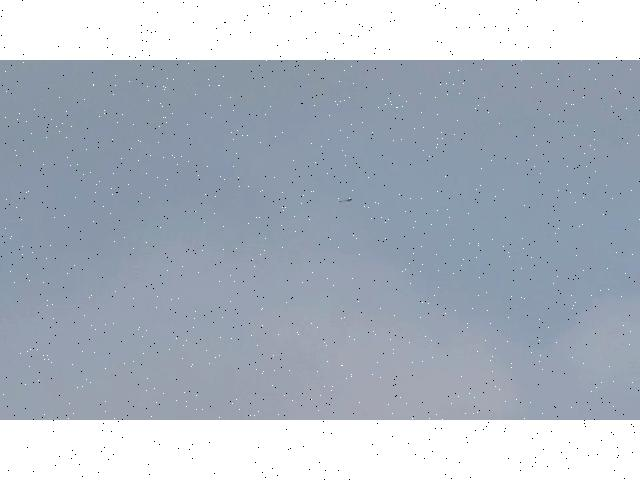Anti-Drone: (338, 197, 354, 203)
